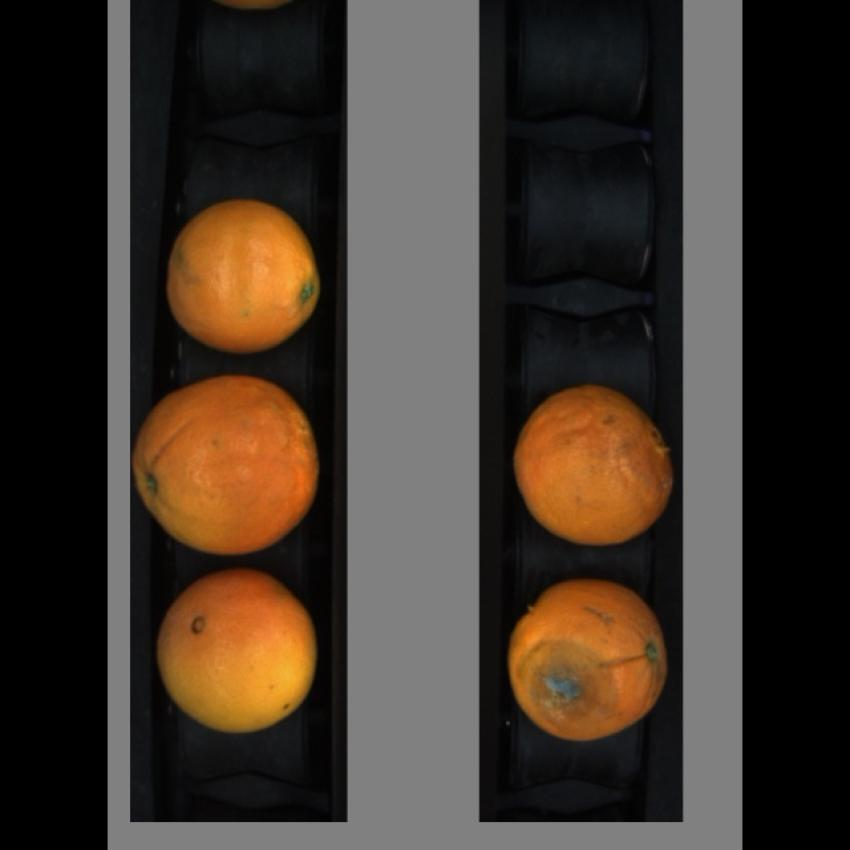Buen estado: (154, 570, 322, 734)
Mal estado: (135, 376, 321, 554), (507, 577, 670, 740), (517, 385, 677, 547), (163, 200, 330, 355)
